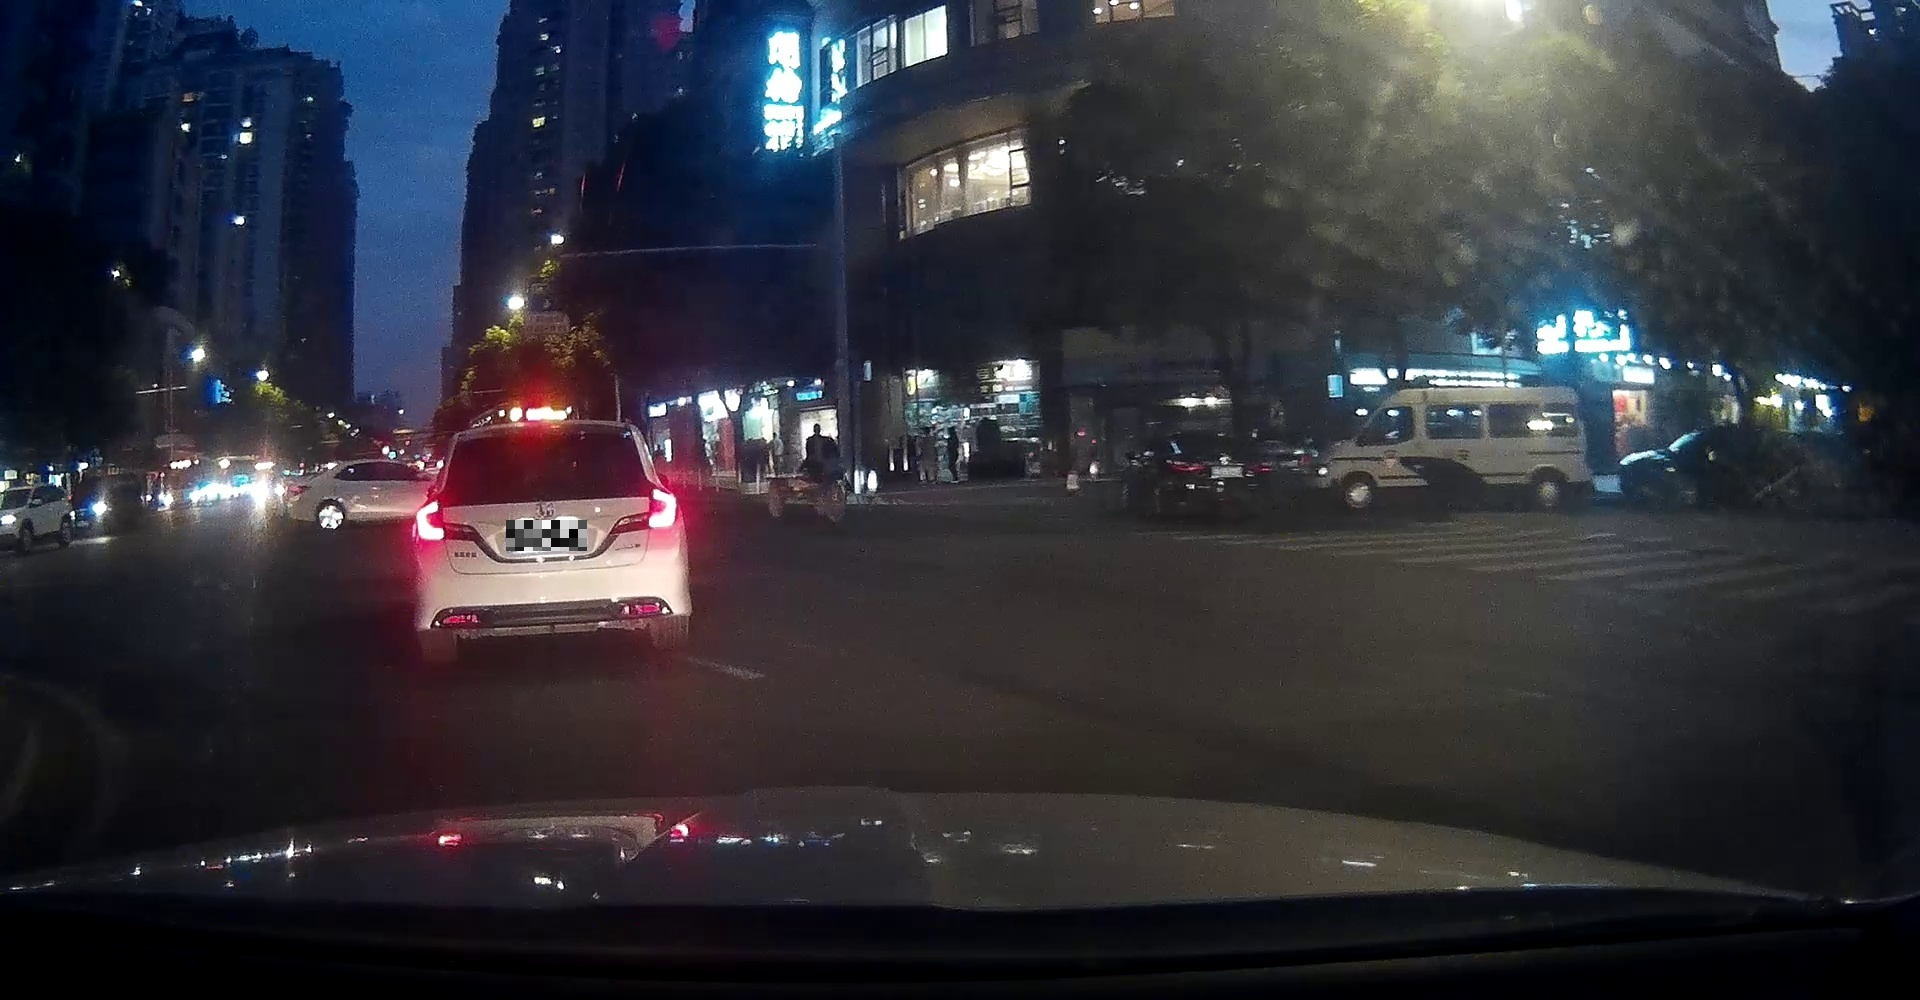L_light: (415, 496, 444, 542)
R_light: (648, 489, 676, 529)
T_light: (526, 419, 566, 433)
night-no: (417, 418, 677, 659)
plate_1: (505, 520, 587, 551)
